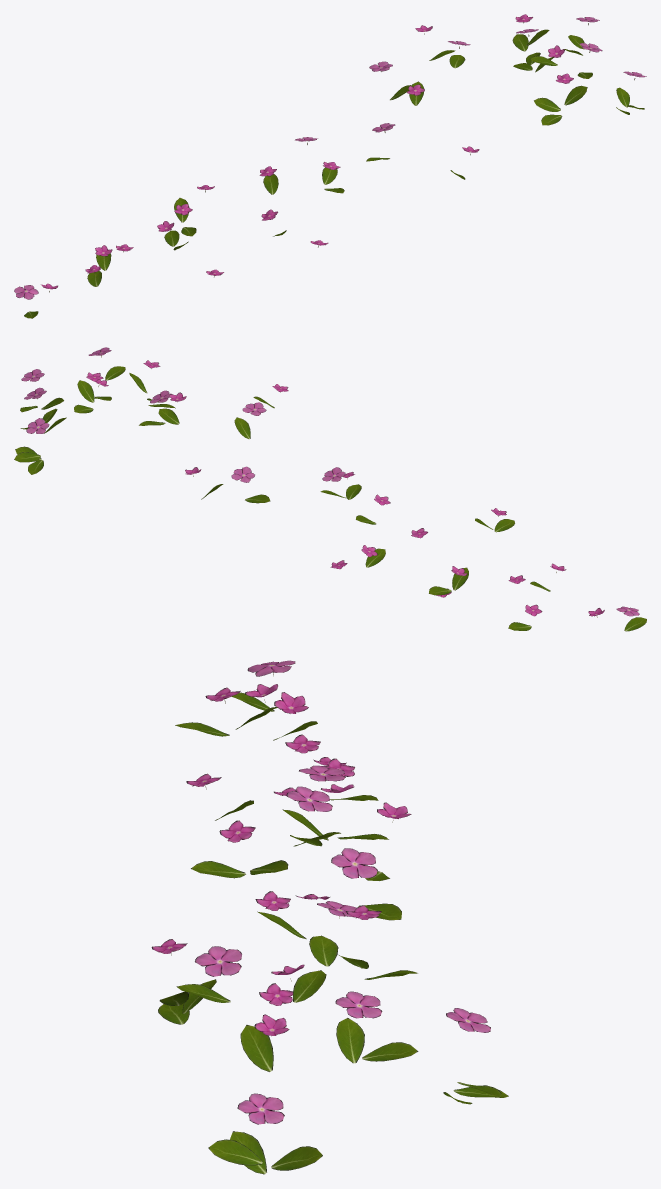
Rendered from flowers.glb.
The picture shows the model from 3 angles, top to bottom: view 1: azimuth 30°, elevation 25°; view 2: azimuth 150°, elevation 25°; view 3: azimuth 270°, elevation 25°; orthographic projection. The views are drawn at different scales.
Visible parts, largest first — view 1: periwinkle_plant_01_LOD0, periwinkle_plant_02_LOD0, periwinkle_plant_03_LOD0, periwinkle_plant_04_LOD0, periwinkle_plant_05_LOD0; view 2: periwinkle_plant_01_LOD0, periwinkle_plant_02_LOD0, periwinkle_plant_03_LOD0, periwinkle_plant_04_LOD0, periwinkle_plant_05_LOD0, periwinkle_plant_06_LOD0; view 3: periwinkle_plant_01_LOD0, periwinkle_plant_02_LOD0, periwinkle_plant_03_LOD0, periwinkle_plant_04_LOD0, periwinkle_plant_06_LOD0, periwinkle_plant_05_LOD0.
Boxes of the visible parts, x1,y1,x2,y2 form: periwinkle_plant_01_LOD0: [512, 14, 646, 125]; periwinkle_plant_02_LOD0: [366, 25, 479, 179]; periwinkle_plant_03_LOD0: [259, 137, 344, 247]; periwinkle_plant_04_LOD0: [157, 185, 223, 277]; periwinkle_plant_05_LOD0: [85, 244, 133, 286]; periwinkle_plant_01_LOD0: [14, 347, 175, 474]; periwinkle_plant_02_LOD0: [139, 384, 288, 503]; periwinkle_plant_03_LOD0: [320, 467, 390, 569]; periwinkle_plant_04_LOD0: [411, 508, 514, 597]; periwinkle_plant_05_LOD0: [508, 563, 566, 630]; periwinkle_plant_06_LOD0: [588, 606, 646, 631]; periwinkle_plant_01_LOD0: [151, 905, 508, 1174]; periwinkle_plant_02_LOD0: [186, 765, 411, 1071]; periwinkle_plant_03_LOD0: [191, 786, 340, 1005]; periwinkle_plant_04_LOD0: [175, 687, 388, 910]; periwinkle_plant_06_LOD0: [231, 660, 308, 713]; periwinkle_plant_05_LOD0: [245, 684, 378, 800].
Size of the model in its own units: 1.22 by 0.3142 by 0.3069.
Materials: 1 (1 with a texture image).
